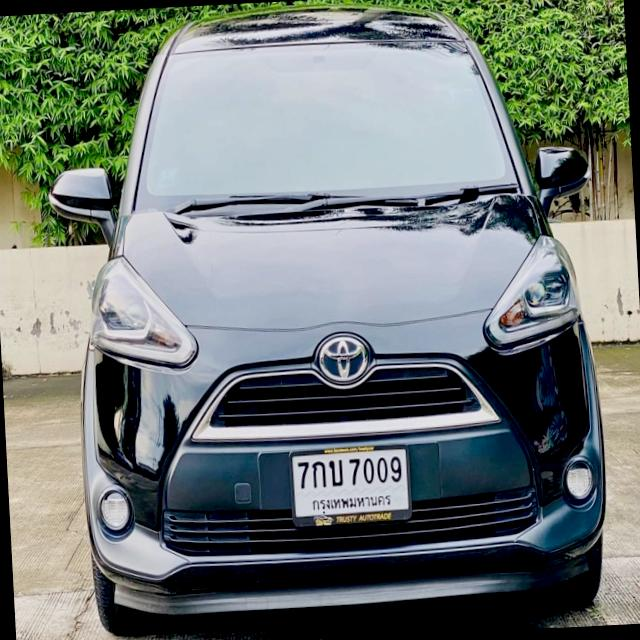license_plate: (288, 440, 414, 532)
